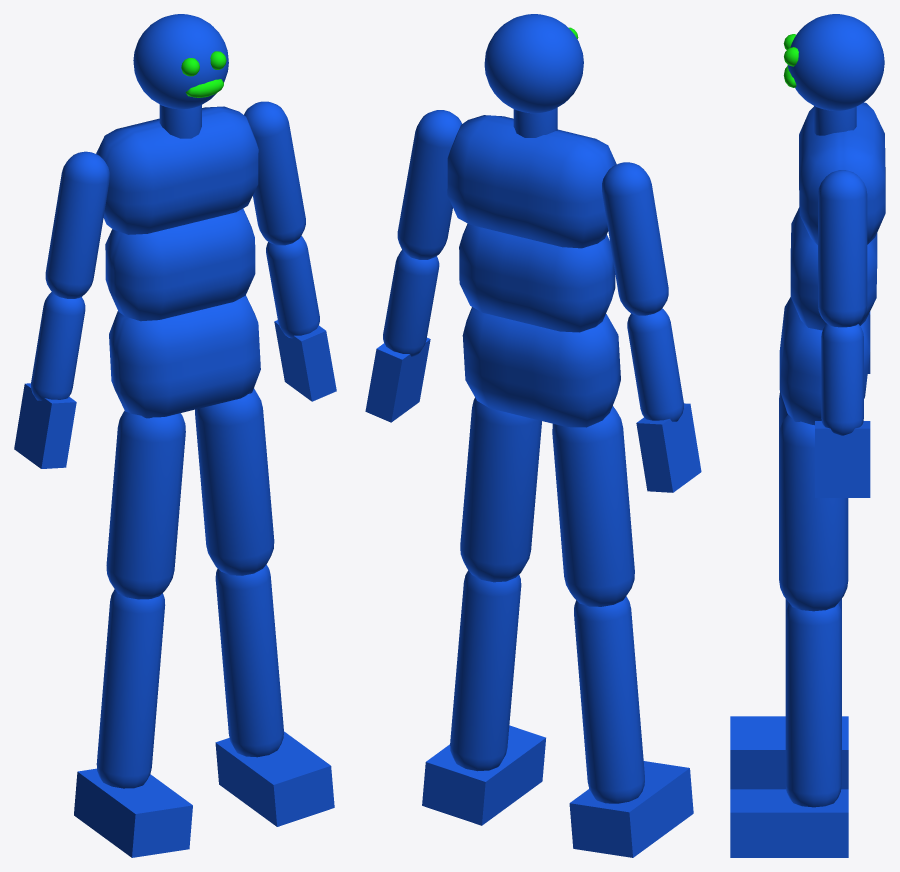
File: ragdoll.fbx
3 views of the same model, side by side, from view 1: azimuth 30°, elevation 25°; view 2: azimuth 150°, elevation 25°; view 3: azimuth 270°, elevation 25° (orthographic). The views are drawn at different scales.
Parts seen in each view (by area): view 1: convexhull_002, convexhull_0, convexhull_001, Capsule002, Capsule005, Capsule003, Capsule004, Box001, Box002, Capsule010, Sphere001, Capsule007 (+5 smaller); view 2: convexhull_002, convexhull_0, Capsule002, convexhull_001, Capsule005, Capsule003, Capsule004, Sphere001, Capsule010, Box001, Box002, Capsule007 (+5 smaller); view 3: Capsule004, Capsule005, Box002, Capsule007, Sphere001, convexhull_002, convexhull_0, Box001, Capsule008, Box003, convexhull_001, Capsule006.
Part boxes in pixels (box(x1,y1,x2,y2)): convexhull_002: box(96, 106, 258, 234); convexhull_0: box(109, 295, 260, 418); convexhull_001: box(105, 208, 255, 321); Capsule002: box(106, 410, 185, 599); Capsule005: box(195, 388, 274, 575); Capsule003: box(96, 589, 165, 788); Capsule004: box(215, 564, 283, 757); Box001: box(74, 768, 192, 857); Box002: box(215, 731, 334, 826); Capsule010: box(45, 151, 109, 298); Sphere001: box(133, 14, 228, 109); Capsule007: box(244, 101, 305, 245); convexhull_002: box(447, 115, 616, 248); convexhull_0: box(462, 307, 620, 427); Capsule002: box(552, 406, 634, 606); convexhull_001: box(459, 223, 615, 332); Capsule005: box(460, 397, 541, 582); Capsule003: box(574, 596, 644, 803); Capsule004: box(450, 570, 521, 771); Sphere001: box(484, 14, 583, 113); Capsule010: box(602, 162, 668, 315); Box001: box(569, 761, 693, 857); Box002: box(422, 725, 545, 825); Capsule007: box(397, 110, 461, 259); Capsule004: box(785, 603, 841, 807); Capsule005: box(779, 414, 848, 611); Box002: box(730, 789, 848, 857); Capsule007: box(818, 170, 867, 327); Sphere001: box(787, 14, 884, 110); convexhull_002: box(799, 102, 885, 244); convexhull_0: box(779, 297, 870, 425); Box001: box(730, 716, 848, 789); Capsule008: box(821, 324, 863, 435); Box003: box(815, 421, 870, 497); convexhull_001: box(790, 207, 877, 330); Capsule006: box(814, 106, 856, 135).
Size of the model in its own units: 71.34 by 31.89 by 180.
